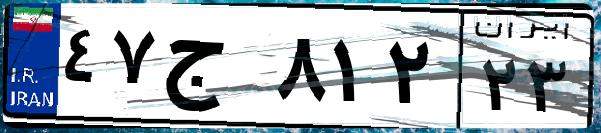1: (330, 28, 385, 110)
2: (385, 28, 445, 110), (475, 38, 525, 113)
3: (525, 38, 570, 115)
4: (57, 26, 110, 100)
7: (110, 28, 158, 98)
8: (270, 28, 330, 110)
ج: (158, 20, 270, 120)
